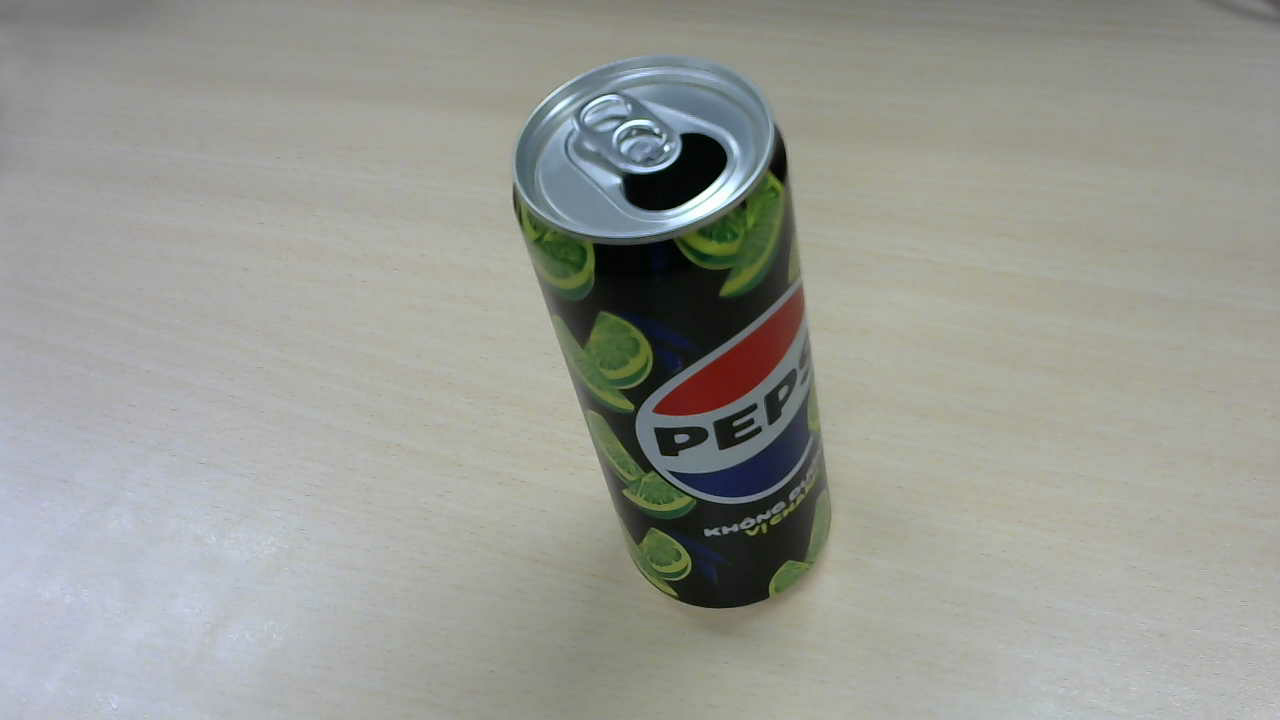Pepsi: (517, 59, 841, 614)
